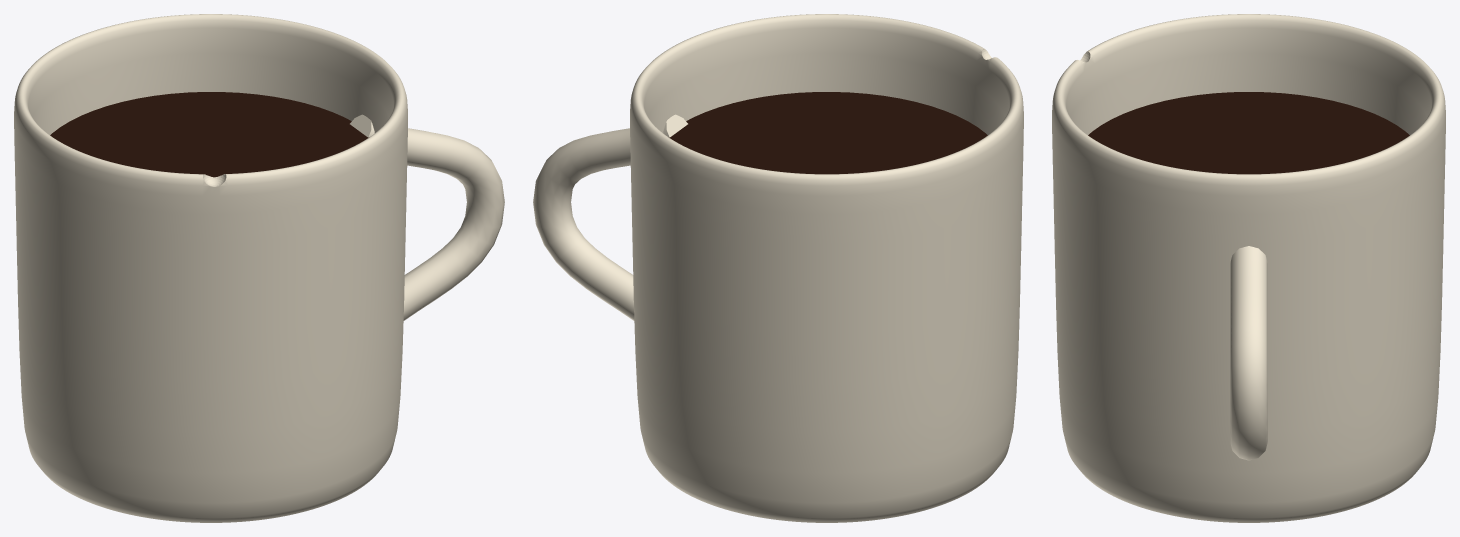
The model's file is mug.glb.
3 views of the same model, side by side, from view 1: azimuth 30°, elevation 25°; view 2: azimuth 150°, elevation 25°; view 3: azimuth 270°, elevation 25° (orthographic).
Parts seen in each view (by area): view 1: mug, coffee, handle; view 2: mug, coffee, handle; view 3: mug, coffee, handle.
Part boxes in pixels (x1,y1,x2,y2): mug: (14,14,407,522); coffee: (50,92,368,177); handle: (350,114,504,320); mug: (630,14,1023,522); coffee: (669,92,987,174); handle: (533,114,687,320); mug: (1052,14,1445,522); coffee: (1088,92,1409,174); handle: (1230,246,1267,460).
Bounding box in the file's own units: 2.39 × 1.78 × 1.76.
